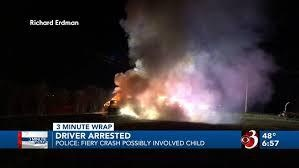fire: (113, 88, 198, 120)
